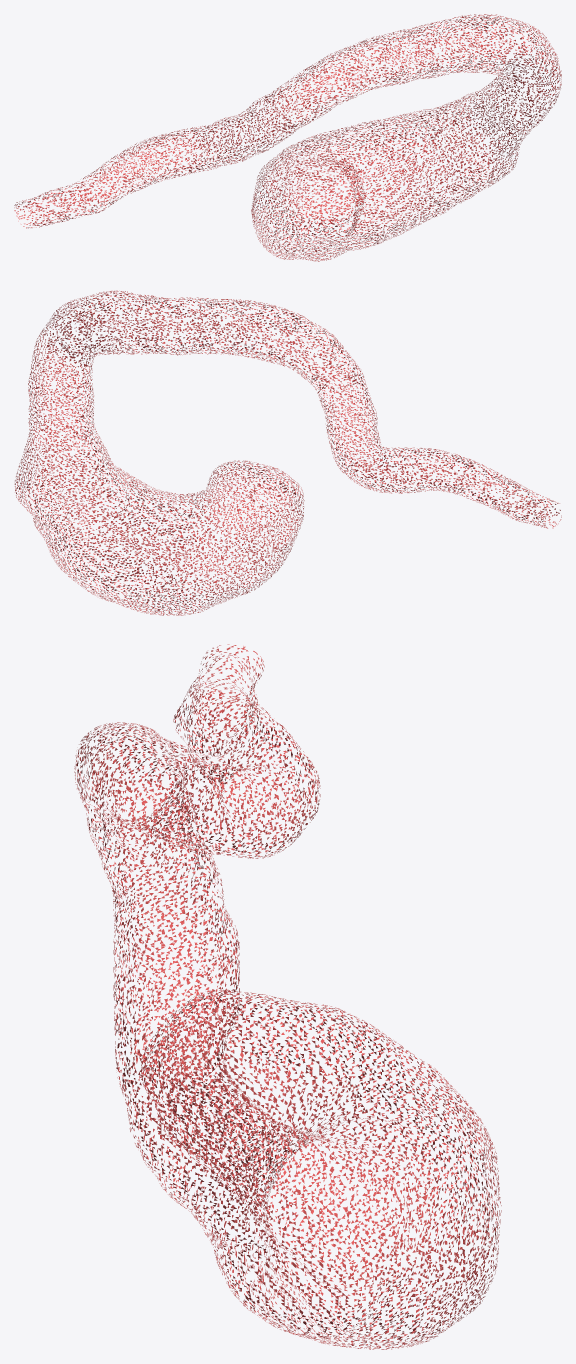
Rendered from aorta.glb.
The picture shows the model from 3 angles, top to bottom: view 1: azimuth 30°, elevation 25°; view 2: azimuth 150°, elevation 25°; view 3: azimuth 270°, elevation 25°; orthographic projection. The views are drawn at different scales.
Size of the model in its own units: 265 by 125 by 94.09.
